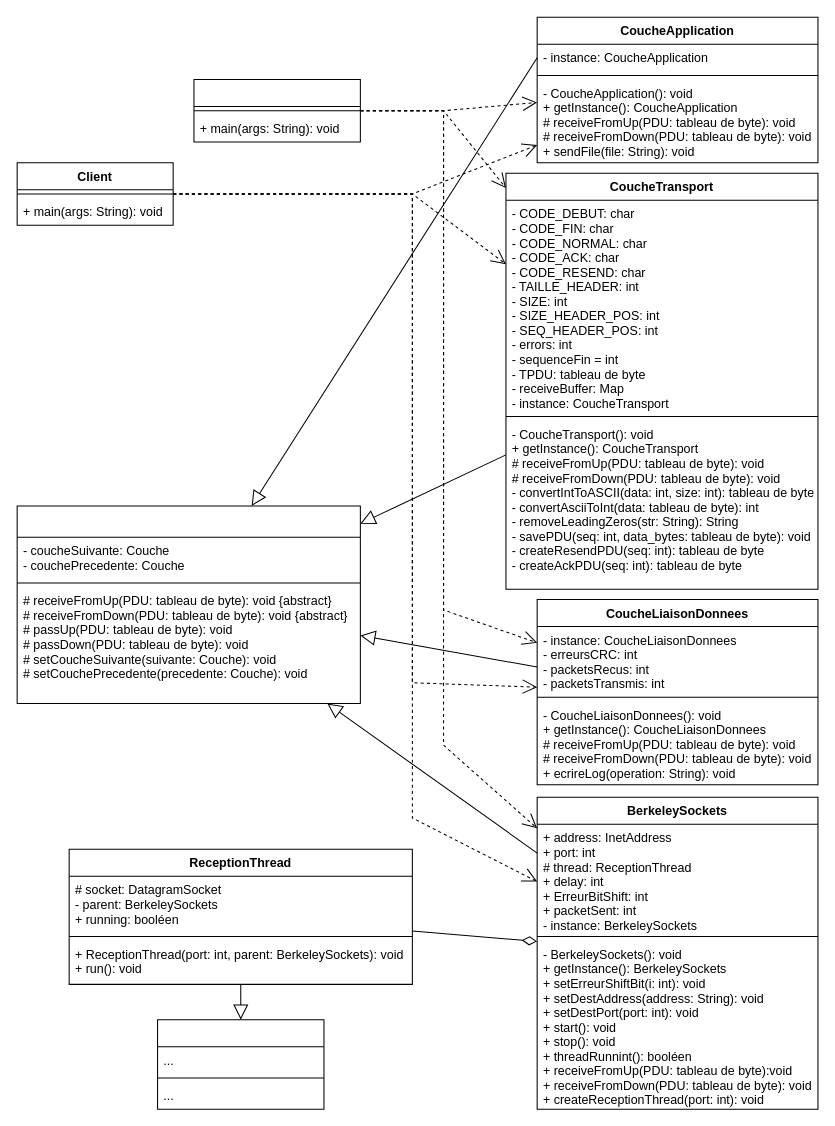
Some shapes in this 835 by 1126 pixel diagram are drawn without their labels. The shapes that lost their labels are listed below. From the top down, each one's box as (x1, y1, x2, y2) in pixels, then its label:
(193, 79, 360, 142): Serveur
(16, 505, 360, 704): Couche {abstract}
(157, 1019, 324, 1109): Thread
